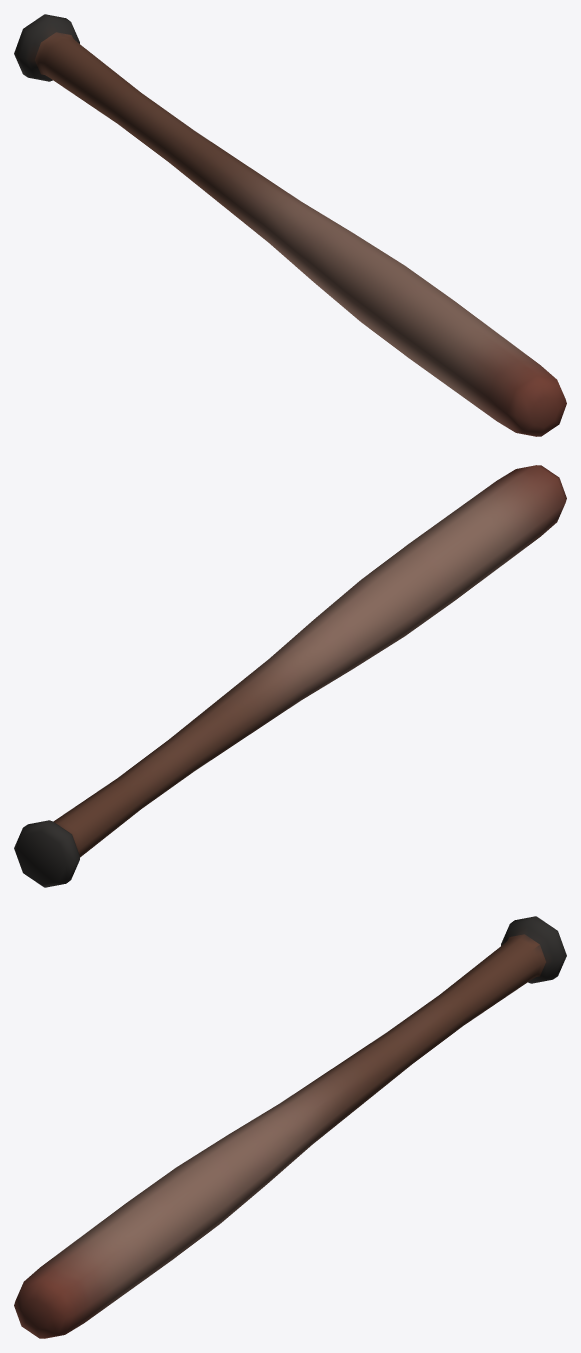
Rendered from bat.fbx.
3 views of the same model, one above another, from view 1: azimuth 30°, elevation 25°; view 2: azimuth 150°, elevation 25°; view 3: azimuth 330°, elevation 25° (orthographic).
Visible parts, largest first — view 1: Bat; view 2: Bat; view 3: Bat.
Part boxes in pixels (box(x1,y1,x2,y2)): Bat: box(14, 14, 566, 436); Bat: box(14, 465, 566, 887); Bat: box(14, 916, 566, 1338).
Bounding box in the file's own units: 35.42 × 35.42 × 488.
